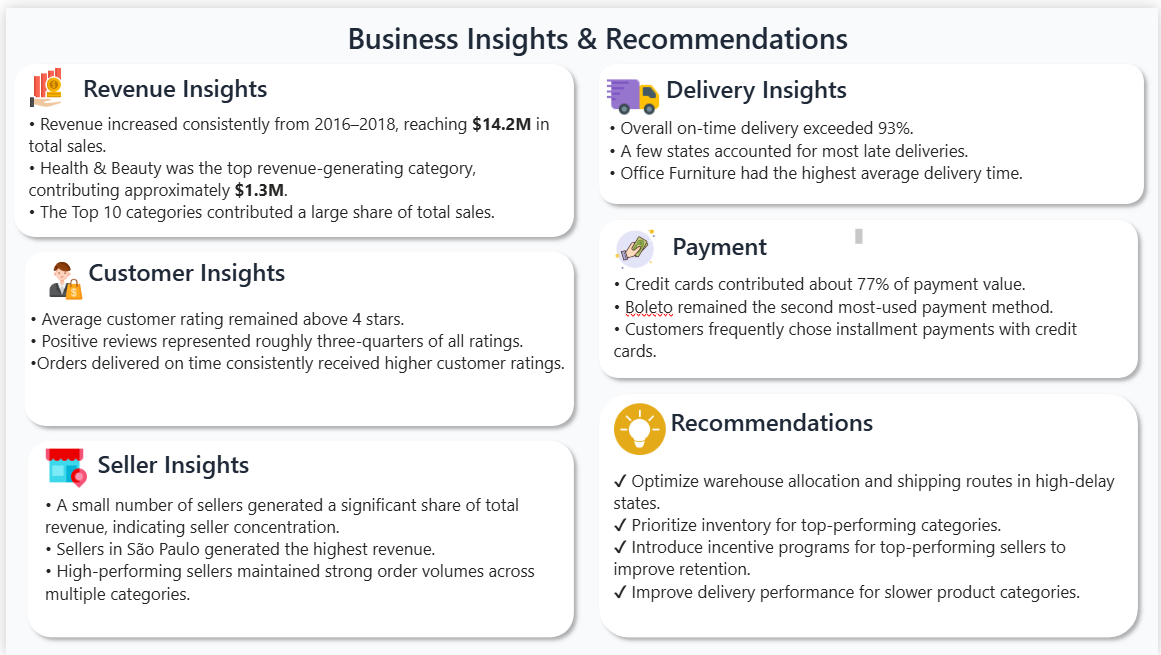

The dashboard page shown, as its layout file describes it:
{"tool":"powerbi","page":{"name":"Business Insights & Recommendations","canvas":[1280,720],"ordinal":9},"visuals":[{"type":"textbox","box":[335,5,645,65],"z":0},{"type":"shape","box":[0,53.3,640,210],"z":1000},{"type":"shape","box":[15,471.7,625,236.7],"z":2000},{"type":"shape","box":[650,53.3,623.3,173.3],"z":3000},{"type":"shape","box":[650,420,616.7,288.3],"z":4000},{"type":"shape","box":[11.7,261.7,628.3,211.7],"z":5000},{"type":"shape","box":[650,226.7,616.7,193.3],"z":6000,"group":"g1"},{"type":"textbox","box":[38.3,533.3,575,153.3],"z":6000},{"type":"textbox","box":[96.7,488.3,213.3,45],"z":7000},{"type":"image","box":[33.3,483.3,63.3,50],"z":8000},{"type":"textbox","box":[78.3,69.4,228.3,38.3],"z":9000},{"type":"group","id":"g1","title":"Group 1","box":[650,226.7,616.7,193.3],"z":10000},{"type":"image","box":[11.7,63.3,66.7,50],"z":11000},{"type":"textbox","box":[25,114.4,595,131.7],"z":12000},{"type":"textbox","box":[733.3,71.7,248.3,43.3],"z":13000},{"type":"image","box":[665,68.3,63.3,58.3],"z":14000},{"type":"textbox","box":[665,115,590,88.3],"z":15000},{"type":"textbox","box":[728.3,240.4,228.3,44.1],"z":16000,"group":"g1"},{"type":"textbox","box":[86.7,275,263.3,36.7],"z":16000},{"type":"textbox","box":[733.3,440.9,248.3,55.7],"z":16000,"group":"g2"},{"type":"image","box":[665,240.4,68.3,56.3],"z":17000,"group":"g1"},{"type":"image","box":[30.3,276.7,64.5,50],"z":17000},{"type":"image","box":[670,438.3,68.3,59.6],"z":17000,"group":"g2"},{"type":"textbox","box":[670,287.8,575,115.7],"z":18000,"group":"g1"},{"type":"textbox","box":[21.7,326.7,605,111.7],"z":18000},{"type":"textbox","box":[675,511.1,570,175],"z":18000,"group":"g2"},{"type":"group","id":"g2","title":"Group 6","box":[670,438.3,575,247.8],"z":19000}]}

Visuals, with their boxes in screenshot pixels (x1, y1, x2, y2), scaled from the page's 1280x720 canvas onto the 1161x655 screenshot:
textbox: box=[304, 5, 889, 64]
shape: box=[0, 48, 580, 240]
shape: box=[14, 429, 580, 644]
shape: box=[590, 48, 1155, 206]
shape: box=[590, 382, 1149, 644]
shape: box=[11, 238, 580, 431]
shape: box=[590, 206, 1149, 382]
textbox: box=[35, 485, 556, 625]
textbox: box=[88, 444, 281, 485]
image: box=[30, 440, 88, 485]
textbox: box=[71, 63, 278, 98]
"Group 1" group: box=[590, 206, 1149, 382]
image: box=[11, 58, 71, 103]
textbox: box=[23, 104, 562, 224]
textbox: box=[665, 65, 890, 105]
image: box=[603, 62, 661, 115]
textbox: box=[603, 105, 1138, 185]
textbox: box=[661, 219, 868, 259]
textbox: box=[79, 250, 317, 284]
textbox: box=[665, 401, 890, 452]
image: box=[603, 219, 665, 270]
image: box=[27, 252, 86, 297]
image: box=[608, 399, 670, 453]
textbox: box=[608, 262, 1129, 367]
textbox: box=[20, 297, 568, 399]
textbox: box=[612, 465, 1129, 624]
"Group 6" group: box=[608, 399, 1129, 624]
